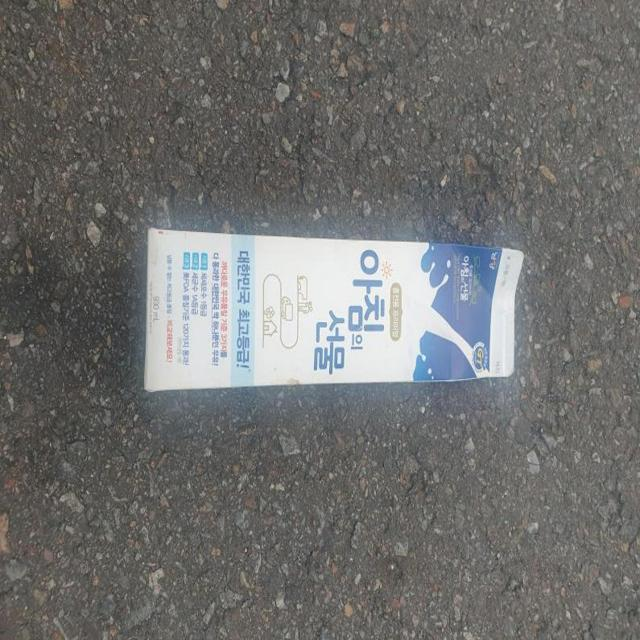paperpack: (144, 228, 524, 391)
